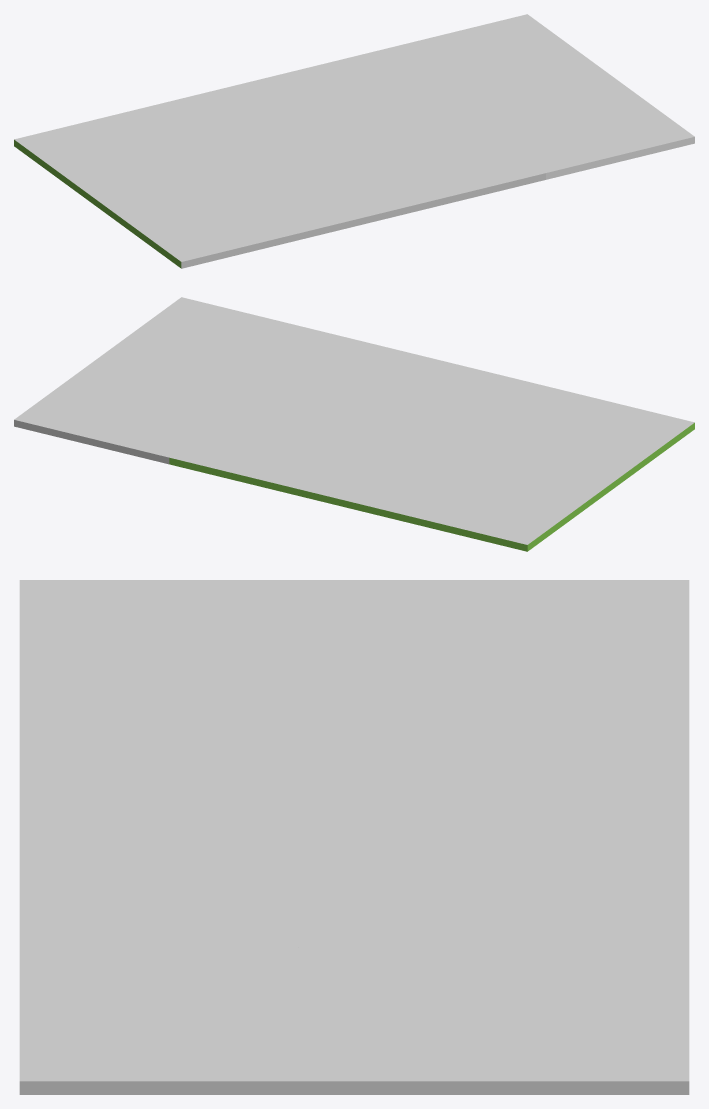
File: NivelRoca 1.fbx
3 renders of one model, top to bottom at view 1: azimuth 30°, elevation 25°; view 2: azimuth 150°, elevation 25°; view 3: azimuth 270°, elevation 25°, orthographic. The views are drawn at different scales.
Parts seen in each view (by area): view 1: Cube.009, Cube.008, Cube.003, Cube.007, Cube.002, Cube.010, Cube.005, Cube.011, Cube.006, Cube.004; view 2: Cube.009, Cube.008, Cube.003, Cube.007, Cube.002, Cube.010, Cube.005, Cube.006, Cube.011, Cube.004; view 3: Cube.009, Cube.008, Cube.003, Cube.007, Cube.002, Cube.010, Cube.006, Cube.005, Cube.011, Cube.004.
Part boxes in pixels (x1,y1,x2,y2): Cube.009: (373, 14, 694, 179); Cube.008: (268, 52, 552, 191); Cube.003: (15, 52, 372, 139); Cube.007: (209, 130, 388, 210); Cube.002: (66, 111, 276, 181); Cube.010: (289, 174, 496, 237); Cube.005: (65, 177, 208, 268); Cube.011: (181, 207, 307, 268); Cube.006: (125, 157, 233, 208); Cube.004: (14, 130, 109, 183); Cube.009: (14, 297, 329, 464); Cube.008: (169, 333, 452, 457); Cube.003: (169, 442, 527, 551); Cube.007: (351, 401, 567, 456); Cube.002: (362, 454, 578, 517); Cube.010: (380, 345, 568, 408); Cube.005: (559, 422, 694, 513); Cube.006: (459, 439, 604, 483); Cube.011: (536, 391, 694, 439); Cube.004: (462, 504, 578, 551); Cube.009: (19, 928, 689, 1094); Cube.008: (19, 775, 688, 962); Cube.003: (495, 581, 689, 929); Cube.007: (122, 655, 471, 848); Cube.002: (388, 580, 628, 788); Cube.010: (19, 696, 172, 887); Cube.006: (217, 605, 450, 720); Cube.005: (20, 580, 482, 655); Cube.011: (19, 580, 215, 710); Cube.004: (483, 580, 689, 658).
Bounding box in the file's own units: 316 × 4 × 179.
